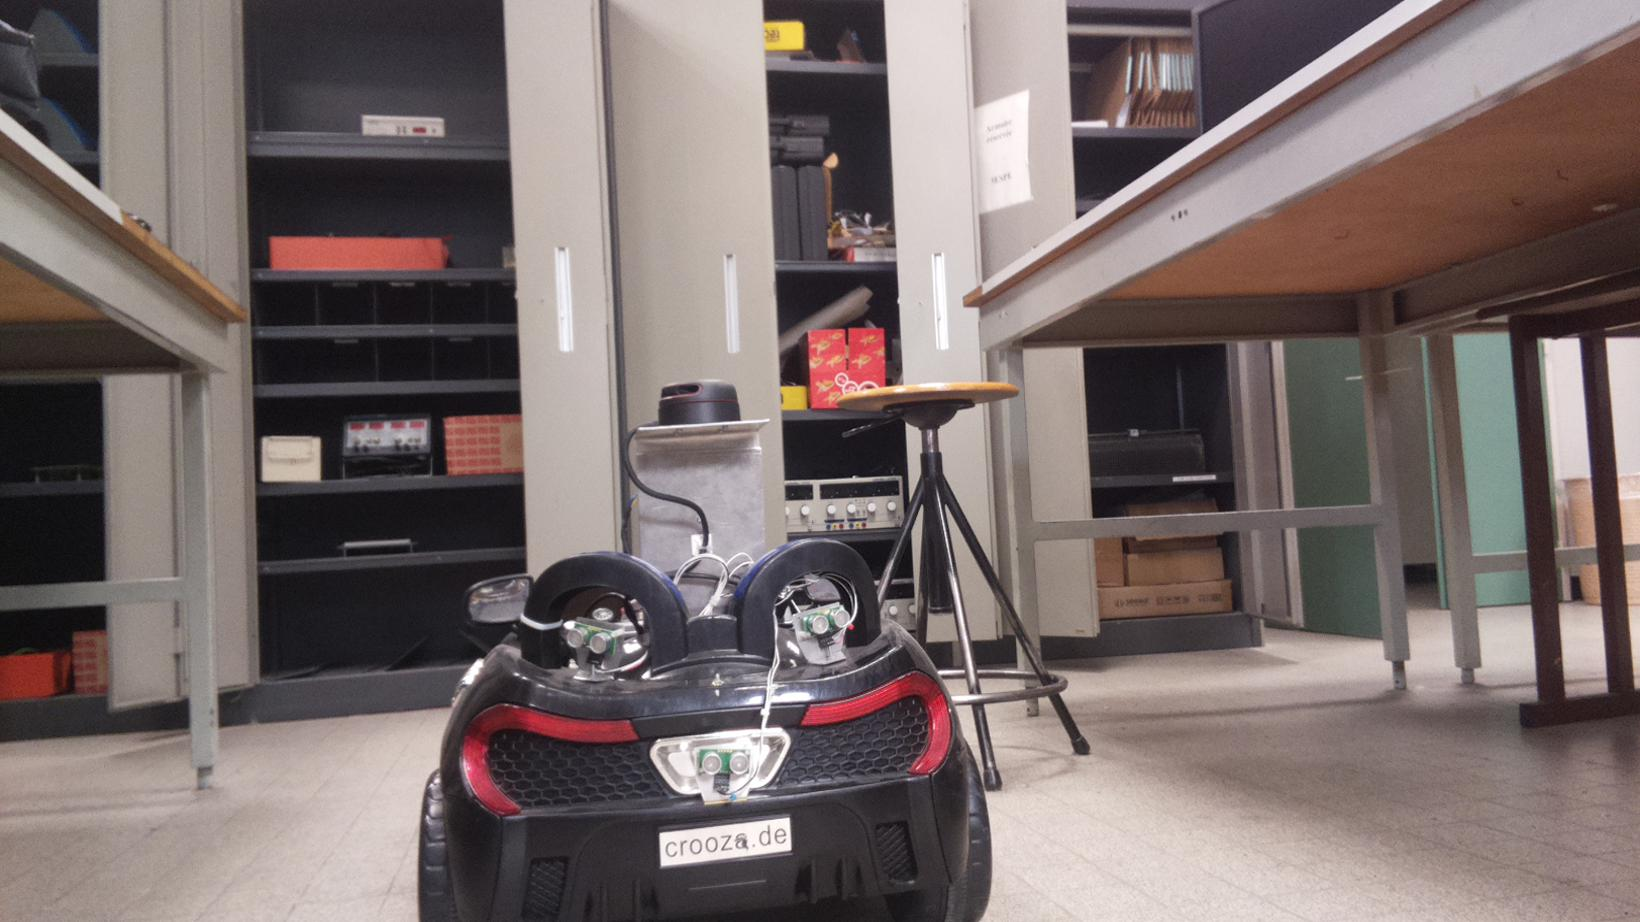big: (392, 537, 997, 922)
